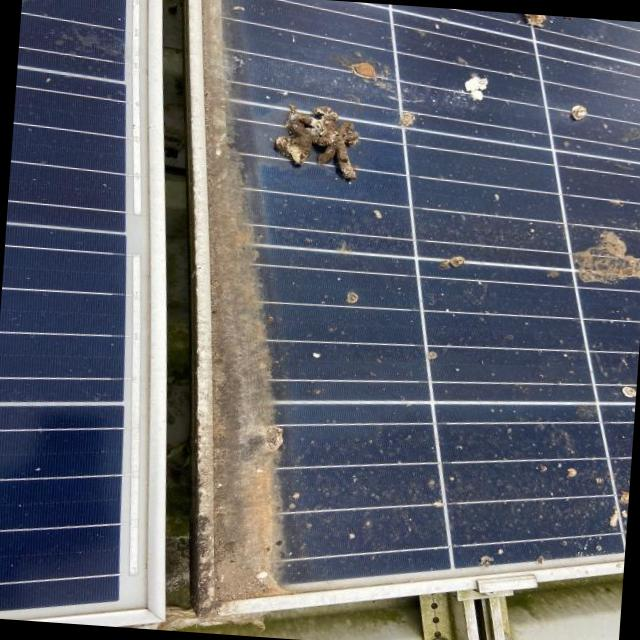faulty: (204, 0, 640, 595), (0, 0, 124, 611)
